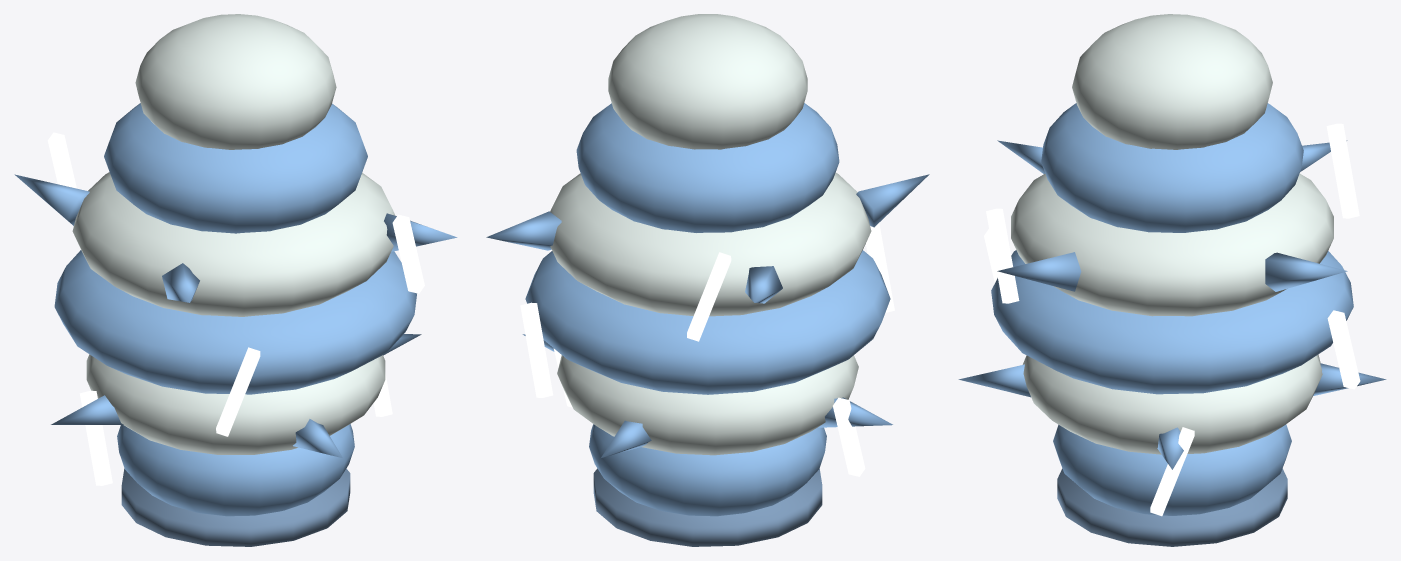
Rendered from egg_snow_06.glb.
3 renders of one model, left to right at view 1: azimuth 30°, elevation 25°; view 2: azimuth 150°, elevation 25°; view 3: azimuth 270°, elevation 25°, orthographic.
Parts seen in each view (by area): view 1: ball; view 2: ball; view 3: ball.
Boxes of the visible parts, box(x1,y1,x2,y2) form: ball: box(14, 14, 457, 546); ball: box(486, 14, 929, 546); ball: box(958, 14, 1386, 546).
Size of the model in its own units: 0.8182 by 0.99 by 0.8182.
